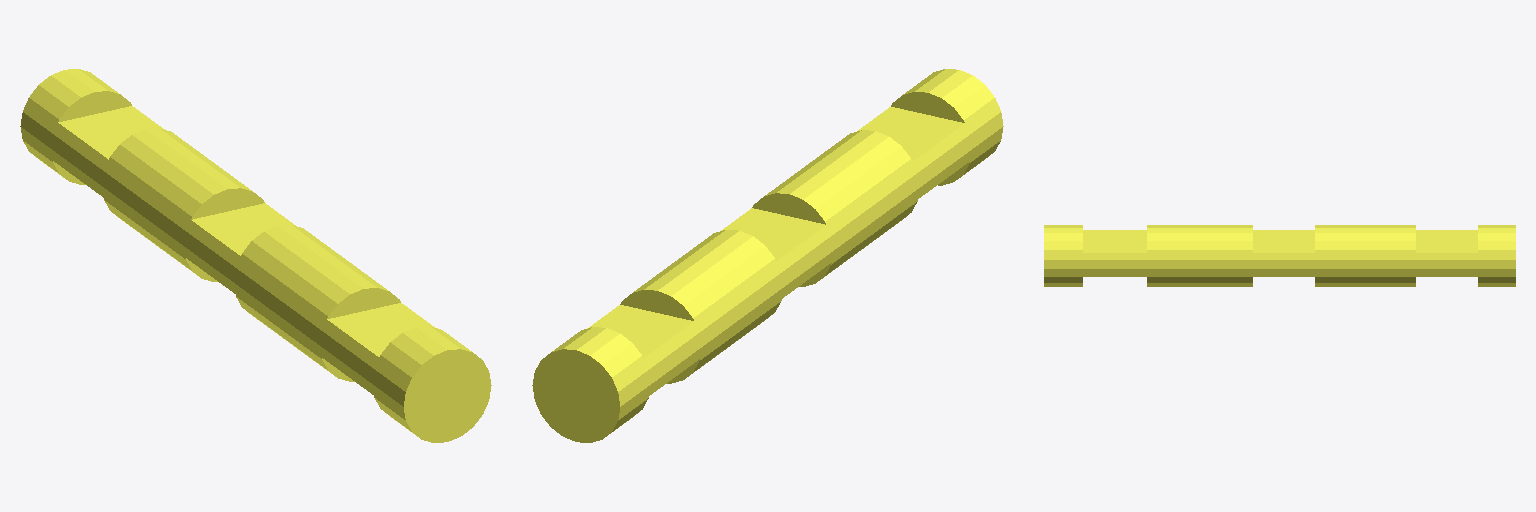
URDF robot description (log.urdf):
<?xml version="0.0" ?>
<robot name="log.urdf">
  <link name="log">
    <contact>
      <lateral_friction value="1.0"/>
      <rolling_friction value="0.0"/>
      <contact_cfm value="0.0"/>
      <contact_erp value="1.0"/>
    </contact>
    <inertial>
      <origin rpy="0 0 0" xyz="0.0 0 0"/>
       <mass value=".1"/>
       <inertia ixx="0" ixy="0" ixz="0" iyy="0" iyz="0" izz="0"/>
    </inertial>
    <visual>
      <!-- <origin rpy="1.570796 0 0" xyz="-0.016 -0.016 -0.0115"/> -->
      <origin rpy="0 0 0" xyz="0.0 0 0"/>
      <geometry>
        <mesh filename="loglarge.obj" scale=".003 .003 .003"/>
      </geometry>
       <material name="yellow">
        <color rgba="1 1 0.4 1"/>
      </material>
    </visual>
    <collision>
      <!-- <origin rpy="1.570796 0 0" xyz="-0.016 -0.016 -0.0115"/> -->
      <origin rpy="0 0 0" xyz="0.0 0 0"/>
      <geometry>
	 			<!-- <box size="0.032 0.023 0.032"/> -->
        <!-- <box size="0.064 0.040 0.064"/> -->
        <mesh filename="loglarge.obj" scale=".003 .003 .003"/>
      </geometry>
    </collision>
  </link>
</robot>

--- Facts derived from the render (not from the file) ---
Views: 3 orthographic renders of the robot side by side, from view 1: azimuth 30°, elevation 25°; view 2: azimuth 150°, elevation 25°; view 3: azimuth 270°, elevation 25°.
Robot: log.urdf — 1 links, 0 joints (none); root link log; default pose: all joints at 0.
Links seen in each view (by area): view 1: log; view 2: log; view 3: log.
Boxes of the visible links, x1,y1,x2,y2 form: log: [20, 69, 491, 442]; log: [532, 69, 1003, 442]; log: [1044, 225, 1515, 286].
Size in the robot's own frame: 0.06 by 0.453 by 0.06 metres.
1 mesh visuals loaded from 1 distinct referenced files (1 OBJ).